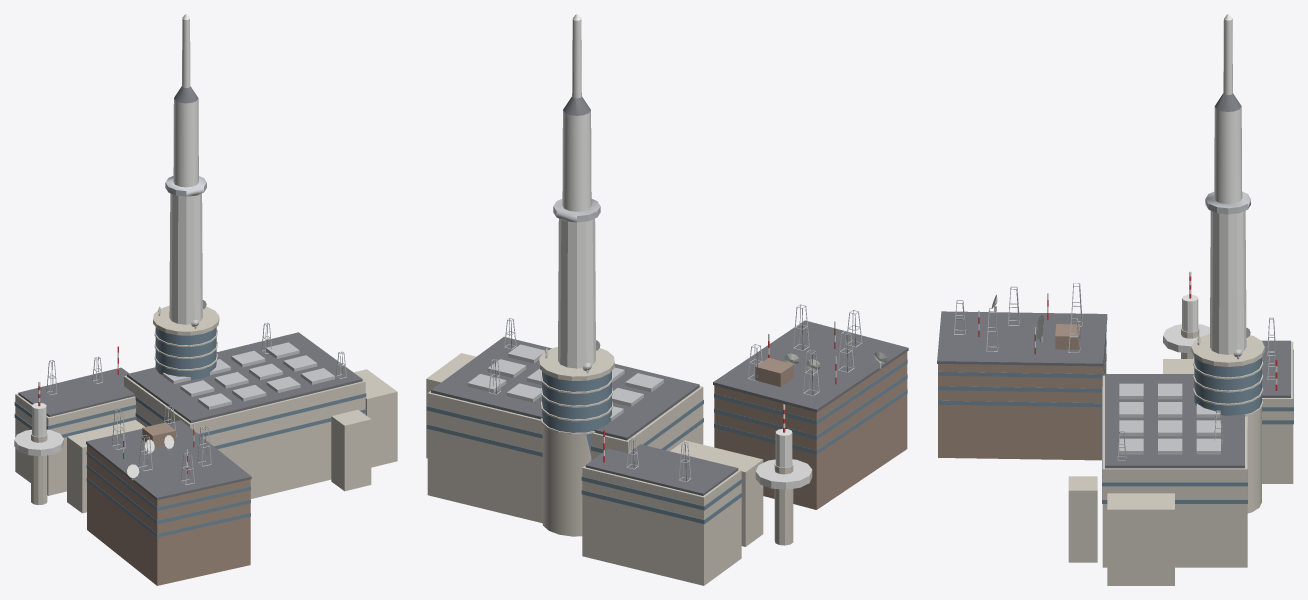
The model's file is nouveau-lieu_v001.glb.
3 views of the same model, side by side, from view 1: azimuth 30°, elevation 25°; view 2: azimuth 150°, elevation 25°; view 3: azimuth 270°, elevation 25° (orthographic). The views are drawn at different scales.
Parts seen in each view (by area): view 1: LIEU_nouveau-lieu_v001.003; view 2: LIEU_nouveau-lieu_v001.003; view 3: LIEU_nouveau-lieu_v001.003.
Part boxes in pixels (<box>): LIEU_nouveau-lieu_v001.003: <box>14,14,397,585</box>; LIEU_nouveau-lieu_v001.003: <box>426,14,908,585</box>; LIEU_nouveau-lieu_v001.003: <box>937,14,1293,585</box>.
Bounding box in the file's own units: 89.71 × 111 × 73.85.
